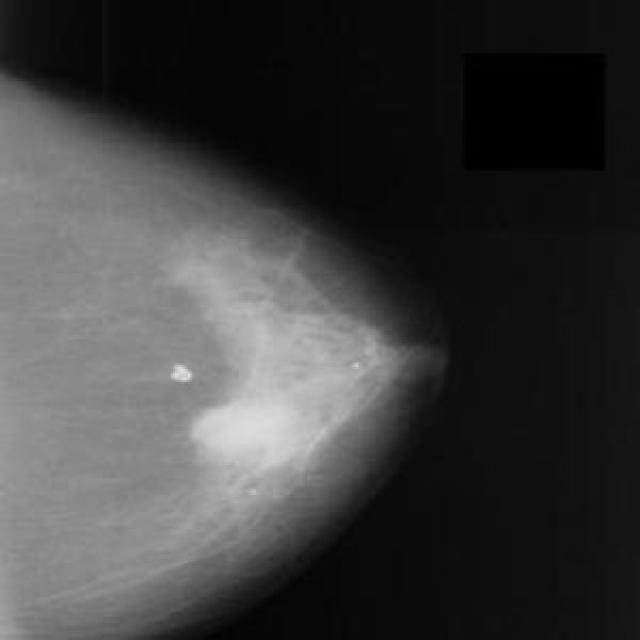tumor: (154, 234, 376, 492)
